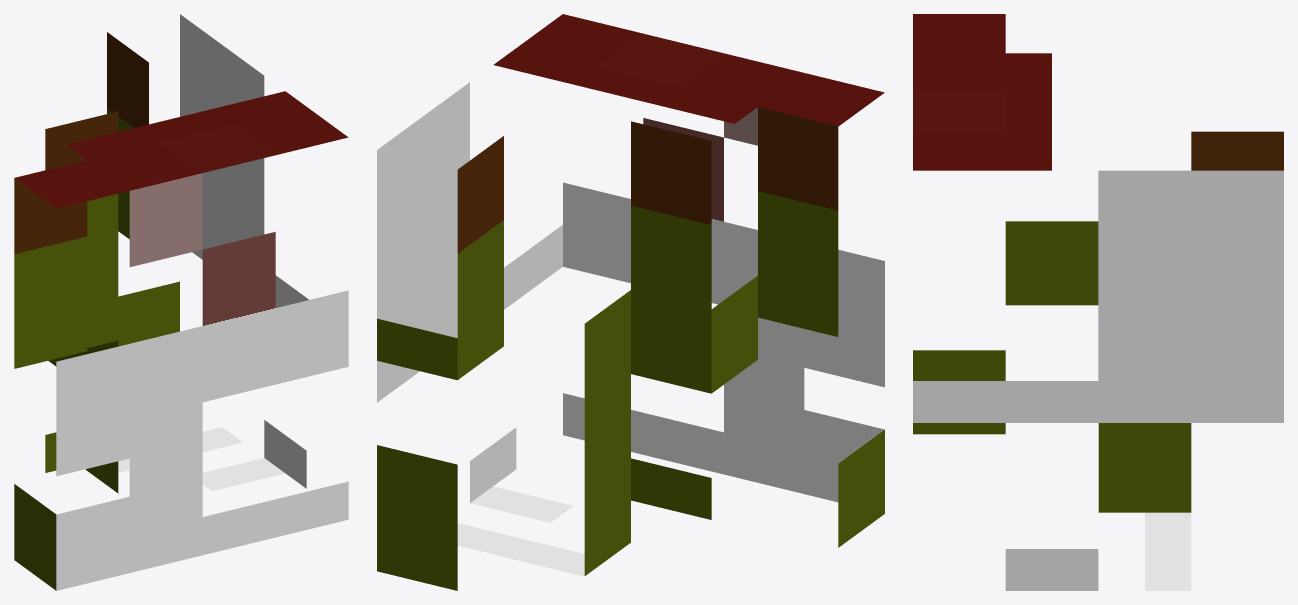
File: block_16.fbx
3 views of the same model, side by side, from view 1: azimuth 30°, elevation 25°; view 2: azimuth 150°, elevation 25°; view 3: azimuth 270°, elevation 25° (orthographic). The views are drawn at different scales.
Visible parts, largest first — view 1: Box; view 2: Box; view 3: Box.
Boxes of the visible parts, bbox=[...] form: Box: bbox=[14, 14, 348, 590]; Box: bbox=[377, 14, 884, 590]; Box: bbox=[913, 14, 1283, 590].
Size of the model in its own units: 4 by 4 by 5.
1 material, 1 textured.
